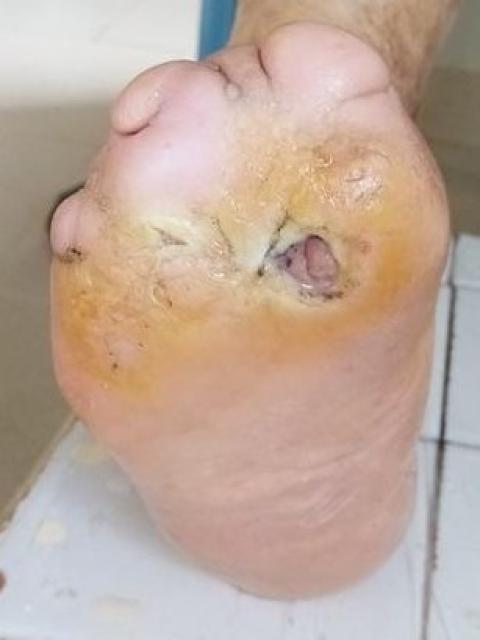wound: (251, 207, 362, 308), (142, 220, 198, 323)
